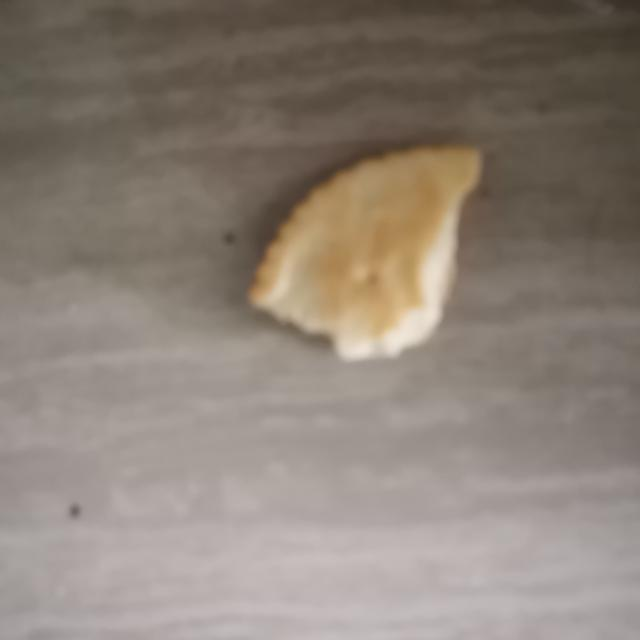Broken: (248, 142, 484, 363)
